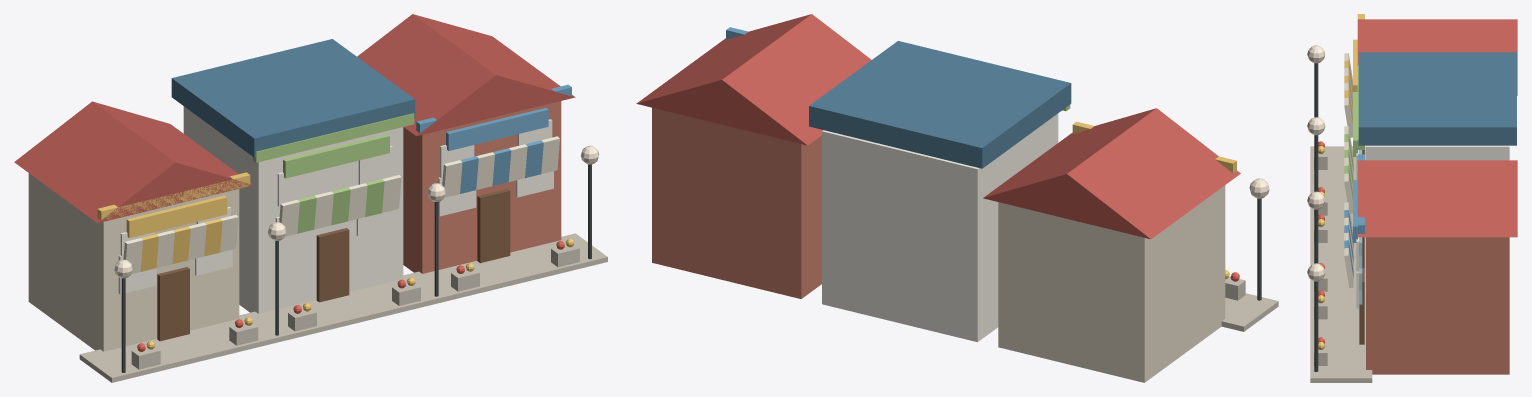
The model's file is main-street-row.glb.
3 views of the same model, side by side, from view 1: azimuth 30°, elevation 25°; view 2: azimuth 150°, elevation 25°; view 3: azimuth 270°, elevation 25° (orthographic). The views are drawn at different scales.
Visible parts, largest first — view 1: MainStreet_Bakery_Wall, MainStreet_Clinic_FlatRoof, MainStreet_Bakery_GableRoof, MainStreet_Clinic_Wall, MainStreet_Bookshop_GableRoof, MainStreet_Sidewalk, MainStreet_Bookshop_Wall, MainStreet_Clinic_Door, MainStreet_Bookshop_Door, MainStreet_Bakery_Door, MainStreet_Clinic_Sign, MainStreet_Bookshop_Sign (+39 smaller); view 2: MainStreet_Bakery_Wall, MainStreet_Clinic_Wall, MainStreet_Bookshop_Wall, MainStreet_Clinic_FlatRoof, MainStreet_Bakery_GableRoof, MainStreet_Bookshop_GableRoof, MainStreet_Sidewalk; view 3: MainStreet_Bookshop_Wall, MainStreet_Clinic_FlatRoof, MainStreet_Bookshop_GableRoof, MainStreet_Sidewalk, MainStreet_Bakery_GableRoof, MainStreet_Clinic_Wall, MainStreet_Lamp_Post_7.9, MainStreet_Bookshop_Door, MainStreet_Clinic_Sign, MainStreet_Bookshop_Sign, MainStreet_Lamp_Post_-2.7, MainStreet_Lamp_Post_-7.9 (+15 smaller).
Part boxes in pixels (x1=…): MainStreet_Bakery_Wall: x1=28, y1=173, x2=239, y2=351; MainStreet_Clinic_FlatRoof: x1=171, y1=39, x2=415, y2=157; MainStreet_Bakery_GableRoof: x1=14, y1=101, x2=253, y2=223; MainStreet_Clinic_Wall: x1=183, y1=106, x2=403, y2=313; MainStreet_Bookshop_GableRoof: x1=357, y1=14, x2=575, y2=136; MainStreet_Sidewalk: x1=79, y1=233, x2=607, y2=382; MainStreet_Bookshop_Wall: x1=403, y1=101, x2=561, y2=273; MainStreet_Clinic_Door: x1=316, y1=228, x2=349, y2=302; MainStreet_Bookshop_Door: x1=477, y1=188, x2=510, y2=263; MainStreet_Bakery_Door: x1=157, y1=267, x2=189, y2=341; MainStreet_Clinic_Sign: x1=283, y1=134, x2=389, y2=178; MainStreet_Bookshop_Sign: x1=446, y1=108, x2=548, y2=150; MainStreet_Bakery_Wall: x1=998, y1=185, x2=1225, y2=382; MainStreet_Clinic_Wall: x1=822, y1=113, x2=1058, y2=342; MainStreet_Bookshop_Wall: x1=652, y1=107, x2=821, y2=298; MainStreet_Clinic_FlatRoof: x1=809, y1=41, x2=1071, y2=168; MainStreet_Bakery_GableRoof: x1=983, y1=108, x2=1240, y2=239; MainStreet_Bookshop_GableRoof: x1=636, y1=14, x2=871, y2=145; MainStreet_Sidewalk: x1=1221, y1=293, x2=1278, y2=331; MainStreet_Bookshop_Wall: x1=1366, y1=237, x2=1509, y2=374; MainStreet_Clinic_FlatRoof: x1=1358, y1=52, x2=1516, y2=145; MainStreet_Bookshop_GableRoof: x1=1357, y1=160, x2=1517, y2=237; MainStreet_Sidewalk: x1=1310, y1=146, x2=1372, y2=382; MainStreet_Bakery_GableRoof: x1=1357, y1=19, x2=1517, y2=95; MainStreet_Clinic_Wall: x1=1366, y1=145, x2=1509, y2=160; MainStreet_Lamp_Post_7.9: x1=1314, y1=281, x2=1318, y2=371; MainStreet_Bookshop_Door: x1=1359, y1=268, x2=1364, y2=344; MainStreet_Clinic_Sign: x1=1353, y1=92, x2=1357, y2=156; MainStreet_Bookshop_Sign: x1=1353, y1=180, x2=1357, y2=242; MainStreet_Lamp_Post_-2.7: x1=1314, y1=135, x2=1318, y2=191; MainStreet_Lamp_Post_-7.9: x1=1314, y1=63, x2=1318, y2=117.
Size of the model in its own units: 16.8 by 6.15 by 6.45.
